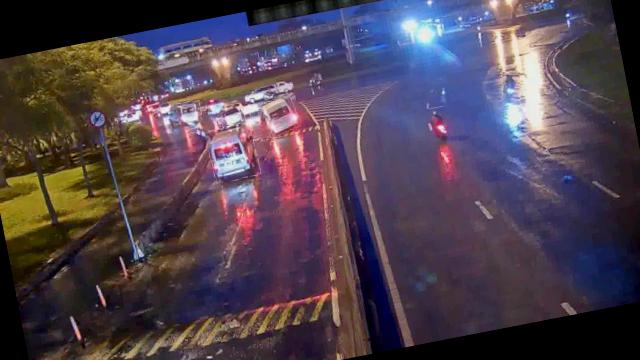Bike: (498, 70, 524, 106), (429, 106, 450, 140)
Bus: (206, 121, 260, 183), (260, 93, 300, 136), (172, 99, 203, 125)
Car: (211, 103, 246, 132)
